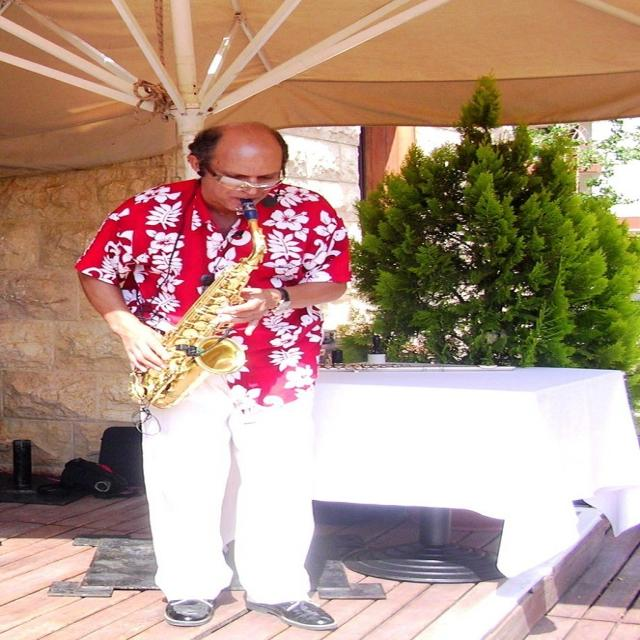saxophone: (130, 197, 272, 412)
